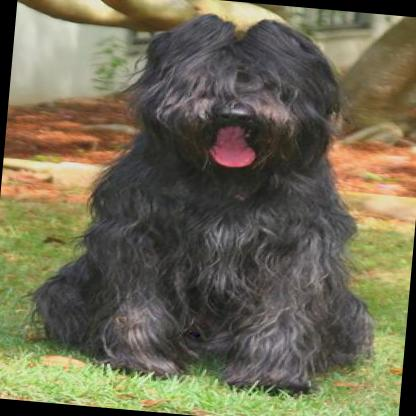briard: (32, 0, 397, 399)
